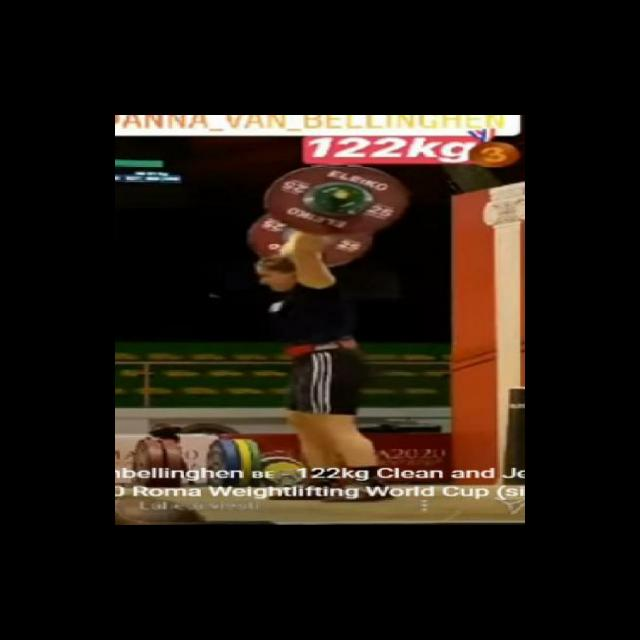barbell: (255, 161, 421, 237)
